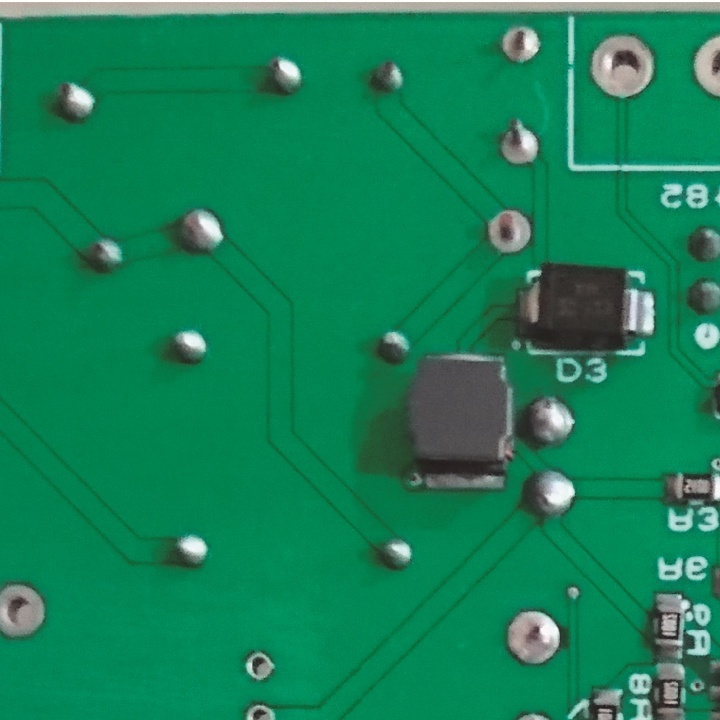F: (586, 32, 656, 101), (501, 609, 562, 666), (1, 579, 53, 641), (498, 114, 544, 175), (486, 206, 533, 256), (499, 25, 542, 66), (242, 649, 279, 683), (243, 701, 282, 720)
